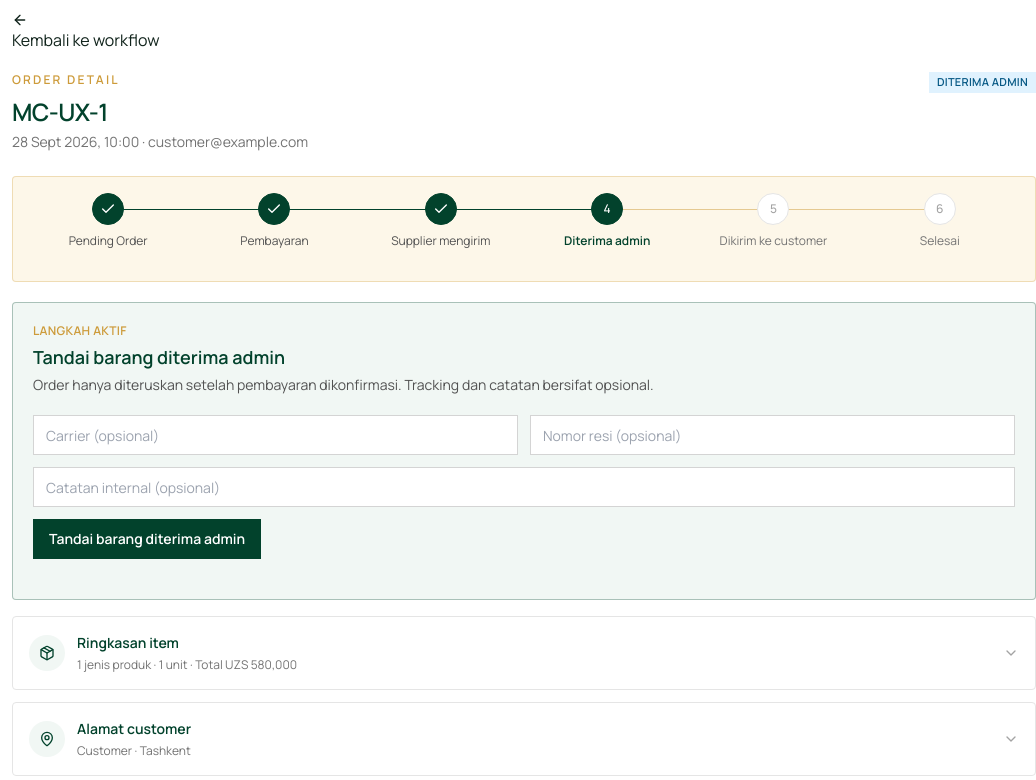
Test: received-by-admin progress updates immediately from the committed response
Expected: the list item "4 Diterima admin" is shown, [564,193,650,249]
Click the button "Tandai barang diterima admin" at (147, 539), box [33,519,261,559]
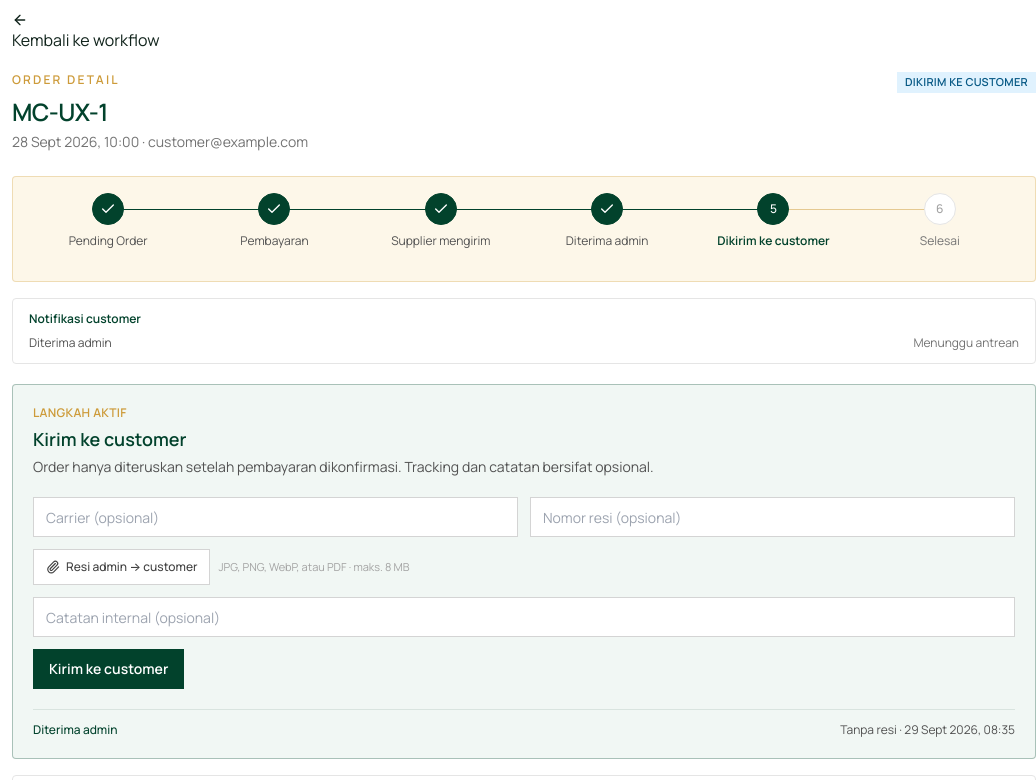
Expected: the list item "5 Dikirim ke customer" is shown, [717,193,830,249]
Now the text with test id "telegram-order-status-fulfillment:received_by_admin" reads "Menunggu antrean", box [914,334,1019,351]
